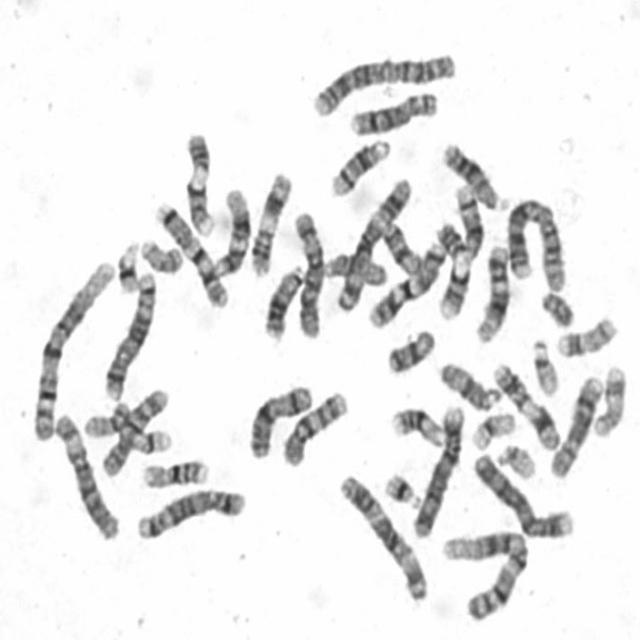A1: (26, 251, 118, 442), (435, 522, 532, 622)
A2: (306, 44, 459, 118), (501, 190, 569, 294)
A3: (333, 466, 431, 604), (331, 171, 414, 312)
B4: (467, 444, 575, 542), (406, 397, 466, 539)
B5: (98, 264, 158, 402), (131, 480, 248, 542)
C10: (96, 381, 171, 479), (276, 383, 351, 468)
C11: (486, 356, 563, 452), (246, 165, 294, 278)
C12: (206, 180, 252, 278), (470, 238, 512, 344)
C6: (49, 407, 121, 542), (288, 202, 326, 340)
C7: (148, 194, 231, 309), (362, 234, 447, 330)
C8: (544, 368, 606, 480), (344, 84, 441, 137)
C9: (430, 214, 473, 320), (178, 124, 216, 238)
D13: (436, 134, 510, 213), (258, 257, 308, 341)
D14: (323, 131, 392, 198), (449, 181, 487, 269)
D15: (434, 354, 504, 411), (318, 245, 389, 288)
E16: (385, 400, 447, 450), (136, 450, 211, 490)
E17: (551, 309, 619, 359), (587, 359, 628, 439)
E18: (376, 214, 426, 278), (381, 322, 436, 376)
F19: (466, 405, 518, 452), (123, 421, 180, 453)
F20: (79, 395, 132, 439), (134, 231, 184, 275)
G21: (378, 465, 424, 509), (111, 234, 142, 295)
G22: (526, 331, 562, 397), (492, 437, 539, 481)
X: (242, 376, 314, 462)
Y: (536, 284, 576, 329)
